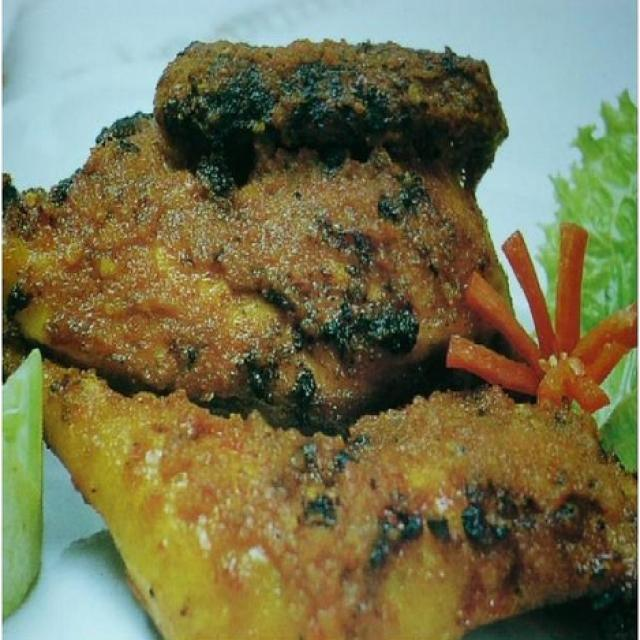鸡肉料理 含炸鸡: (3, 23, 621, 623)
